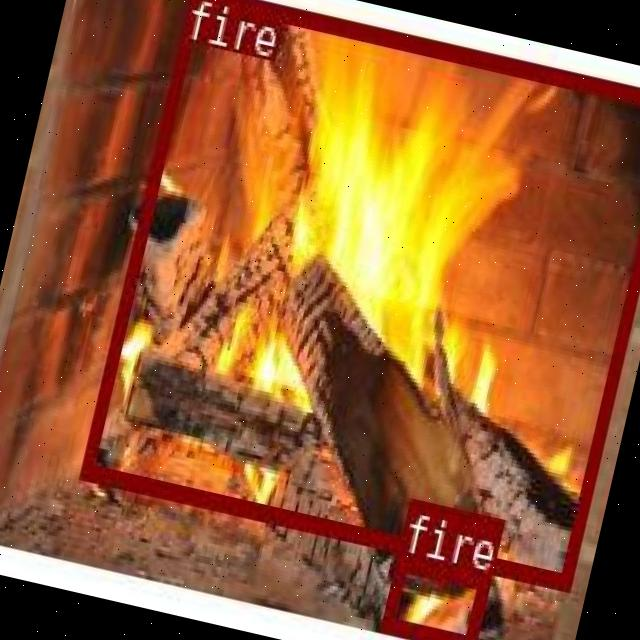fire: (79, 0, 640, 586), (377, 551, 489, 640)
